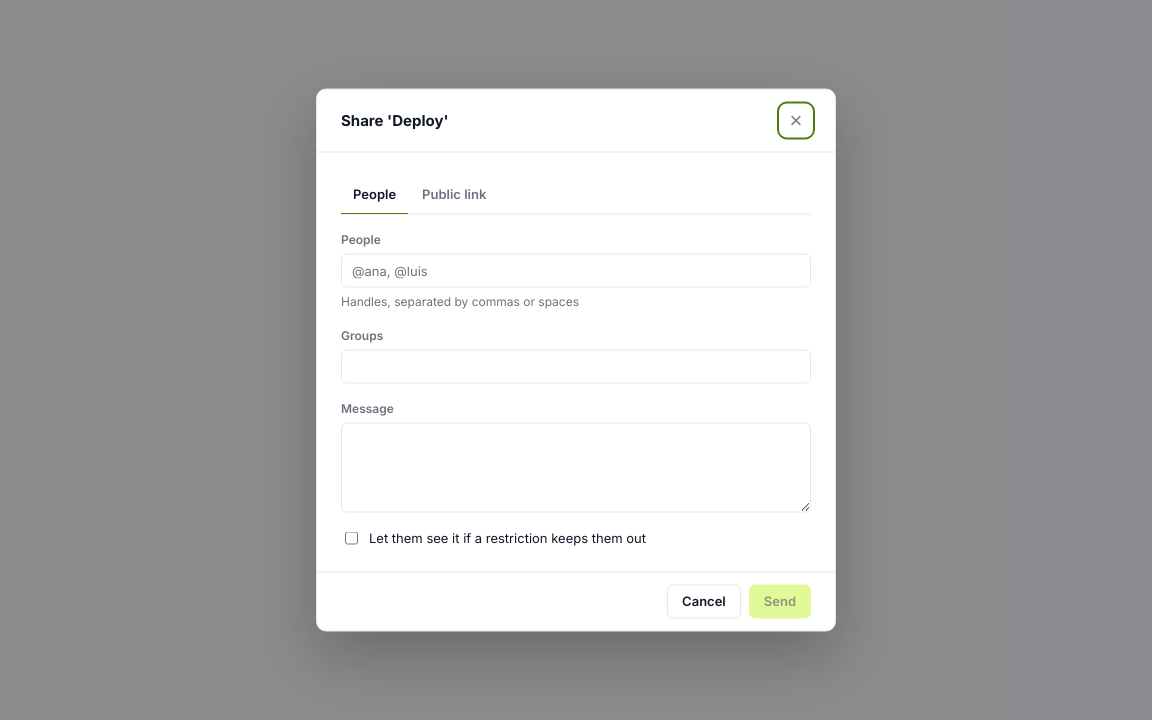
Test: ShareDialog › shows the server's reason when it can't let them in
Step 1. Type "luis" into the field labelled "People" → (576, 270), box [341,253,811,287]
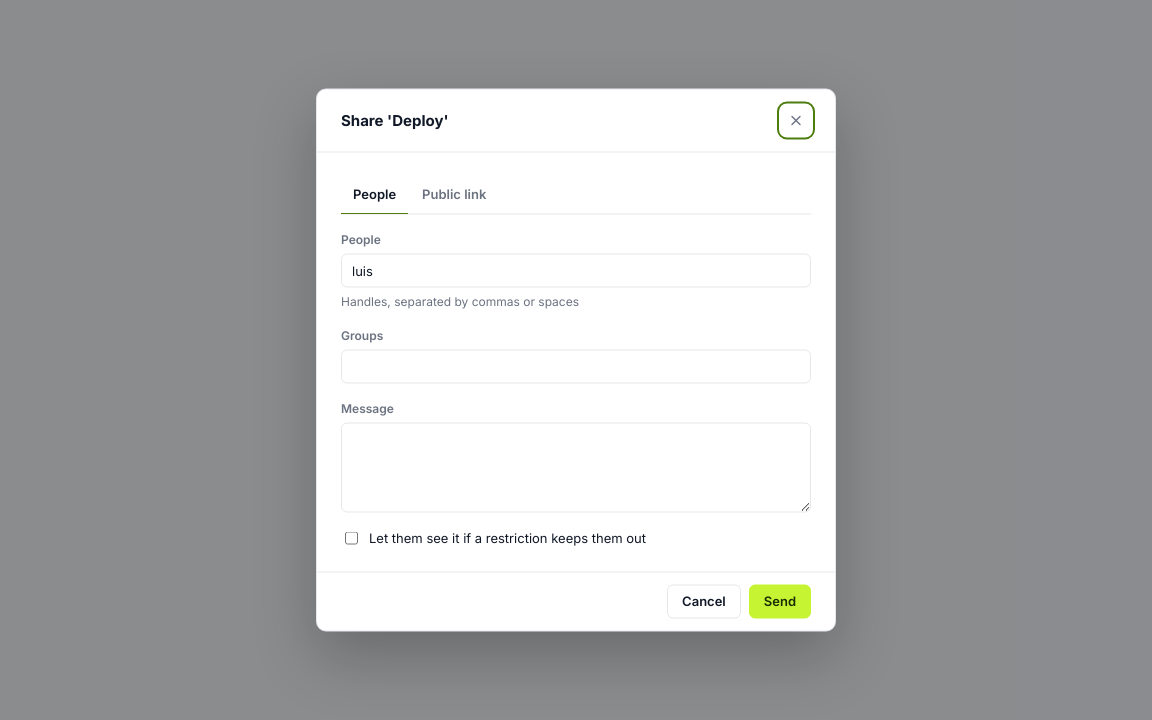
Step 2. Click the checkbox → click(352, 538), box [345,531,358,544]
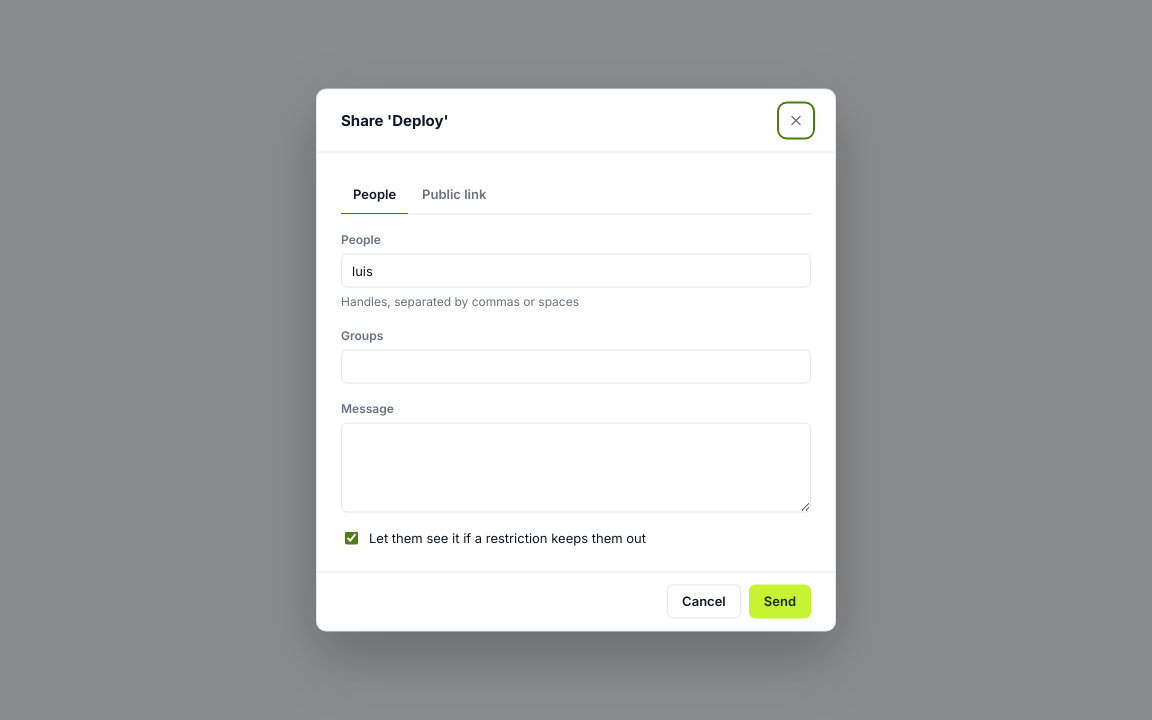
Step 3. Click the button "Send" → click(780, 602), box [749,584,811,618]
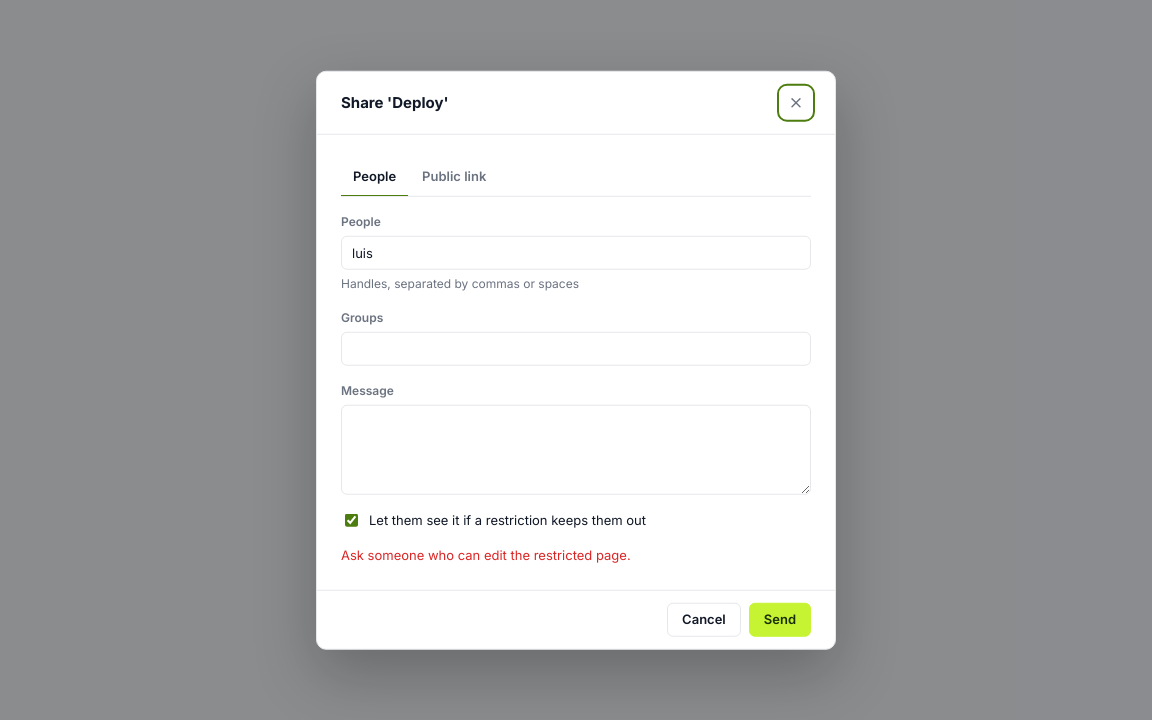
Result: the message shows "Ask someone who can edit" at [341,547,631,563]
